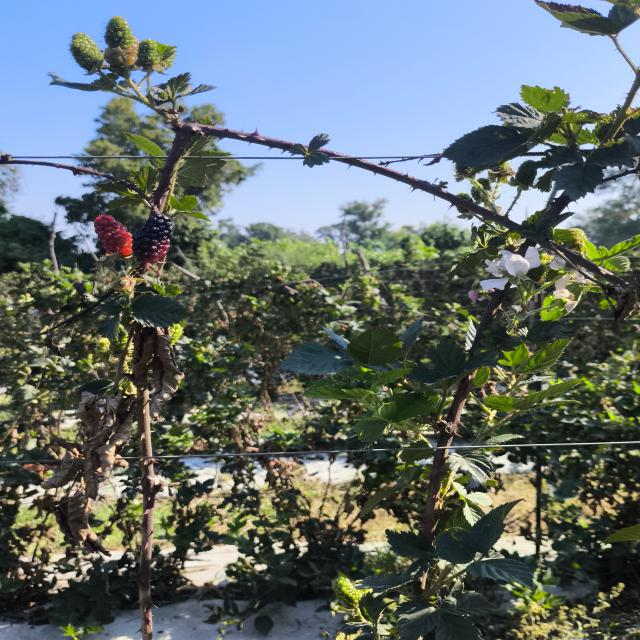flor: (499, 247, 541, 276)
marron: (132, 213, 173, 263)
naranja: (94, 215, 132, 257)
